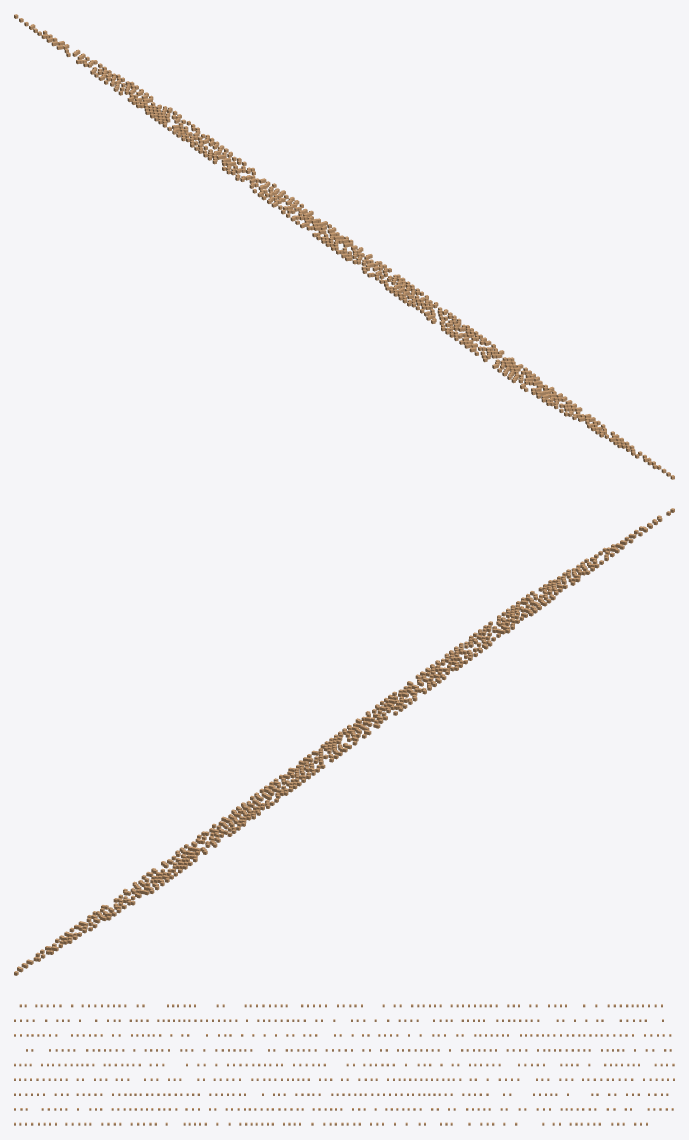
File: CrowdHeadsE.fbx
3 views of the same model, one above another, from view 1: azimuth 30°, elevation 25°; view 2: azimuth 150°, elevation 25°; view 3: azimuth 270°, elevation 25° (orthographic). The views are drawn at different scales.
Parts seen in each view (by area): view 1: HeadE0.001; view 2: HeadE0.001; view 3: HeadE0.001.
Boxes of the visible parts, bbox=[...] form: HeadE0.001: bbox=[14, 14, 674, 479]; HeadE0.001: bbox=[14, 508, 674, 975]; HeadE0.001: bbox=[14, 1004, 674, 1125].
Size of the model in its own units: 4080 by 3280 by 25637.
